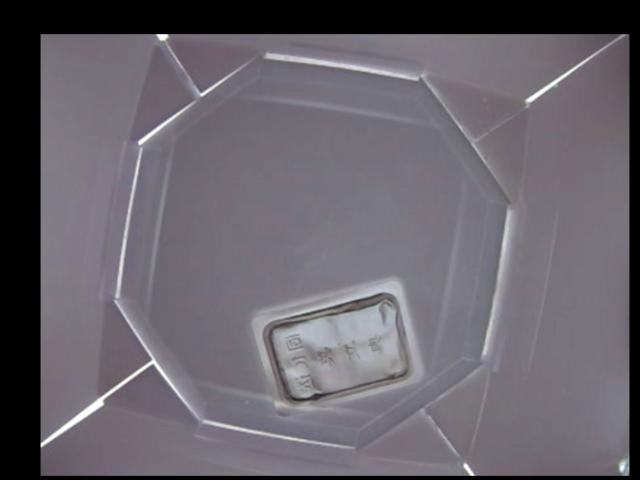Medicine: (250, 277, 419, 416)
